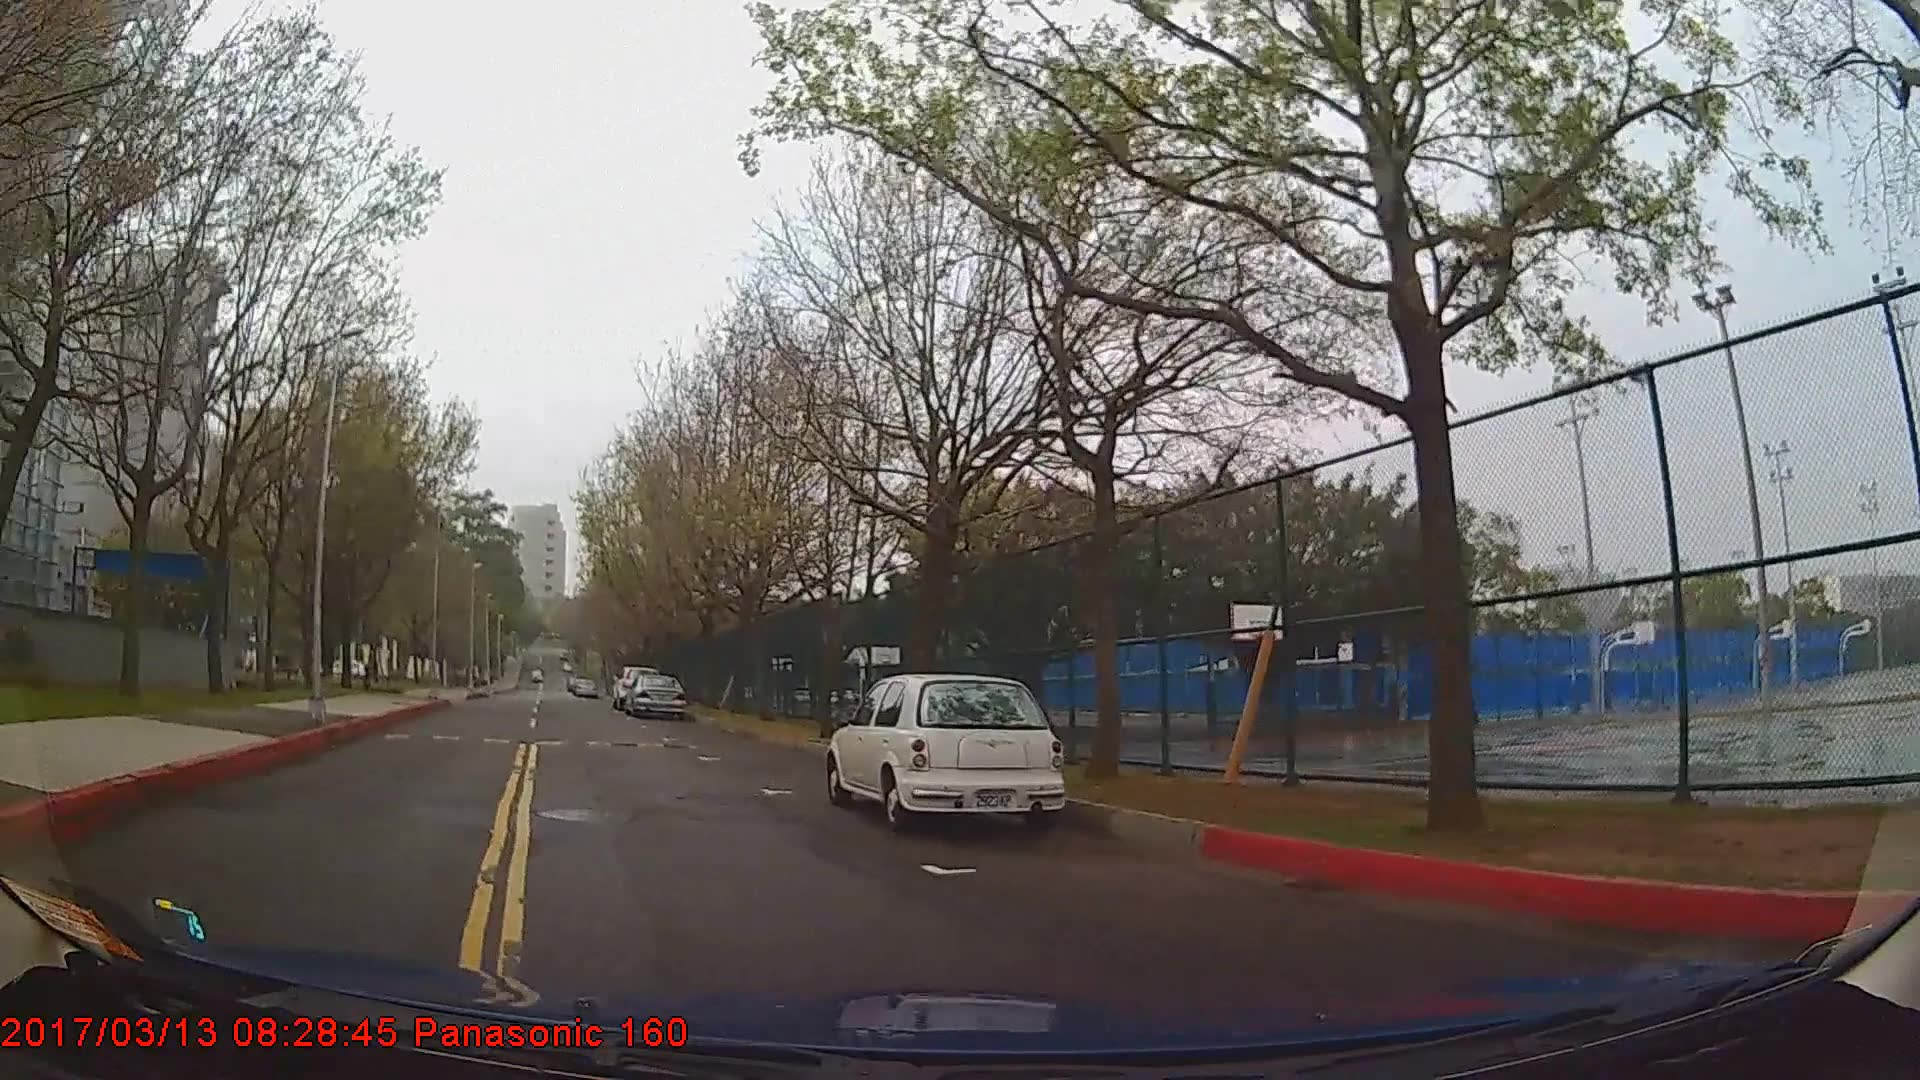vehicle: (823, 673, 1067, 829), (628, 673, 686, 715)
